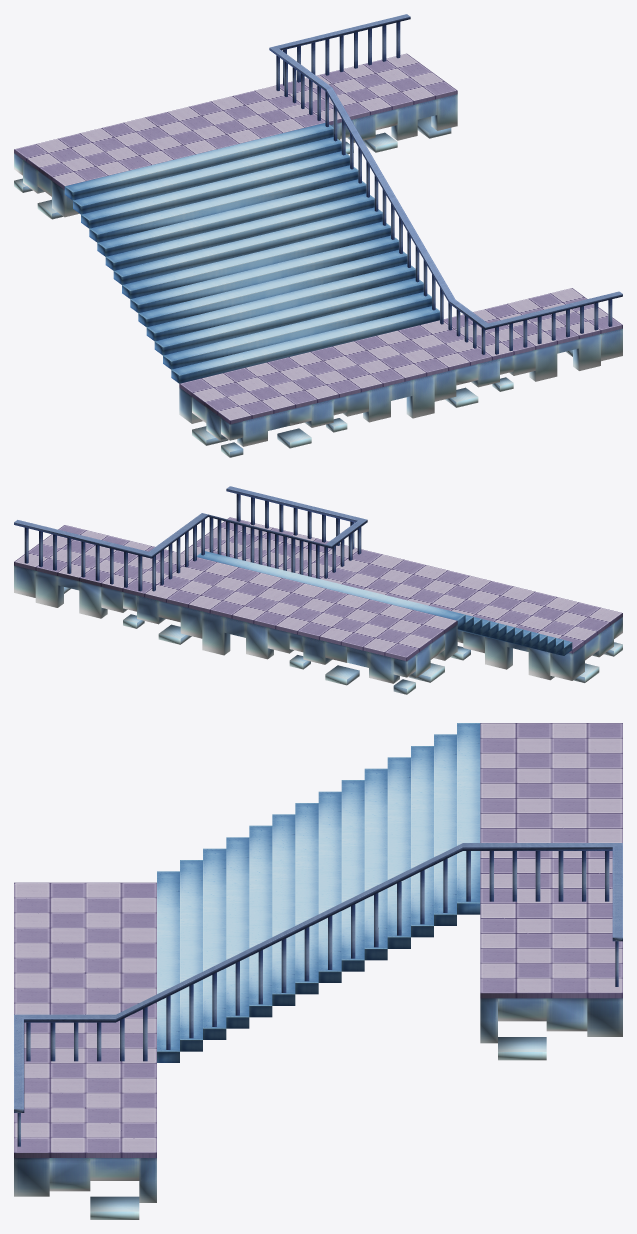
Rendered from a_ESDstair01.glb.
3 views of the same model, one above another, from view 1: azimuth 30°, elevation 25°; view 2: azimuth 150°, elevation 25°; view 3: azimuth 270°, elevation 25° (orthographic). The views are drawn at different scales.
Parts seen in each view (by area): view 1: a_ESDstair01; view 2: a_ESDstair01; view 3: a_ESDstair01.
Part boxes in pixels (bbox=[...]): a_ESDstair01: bbox=[14, 14, 622, 457]; a_ESDstair01: bbox=[14, 486, 622, 694]; a_ESDstair01: bbox=[14, 723, 622, 1219].
Bounding box in the file's own units: 9 × 4.38 × 8.57.
4 materials, 4 textured.
